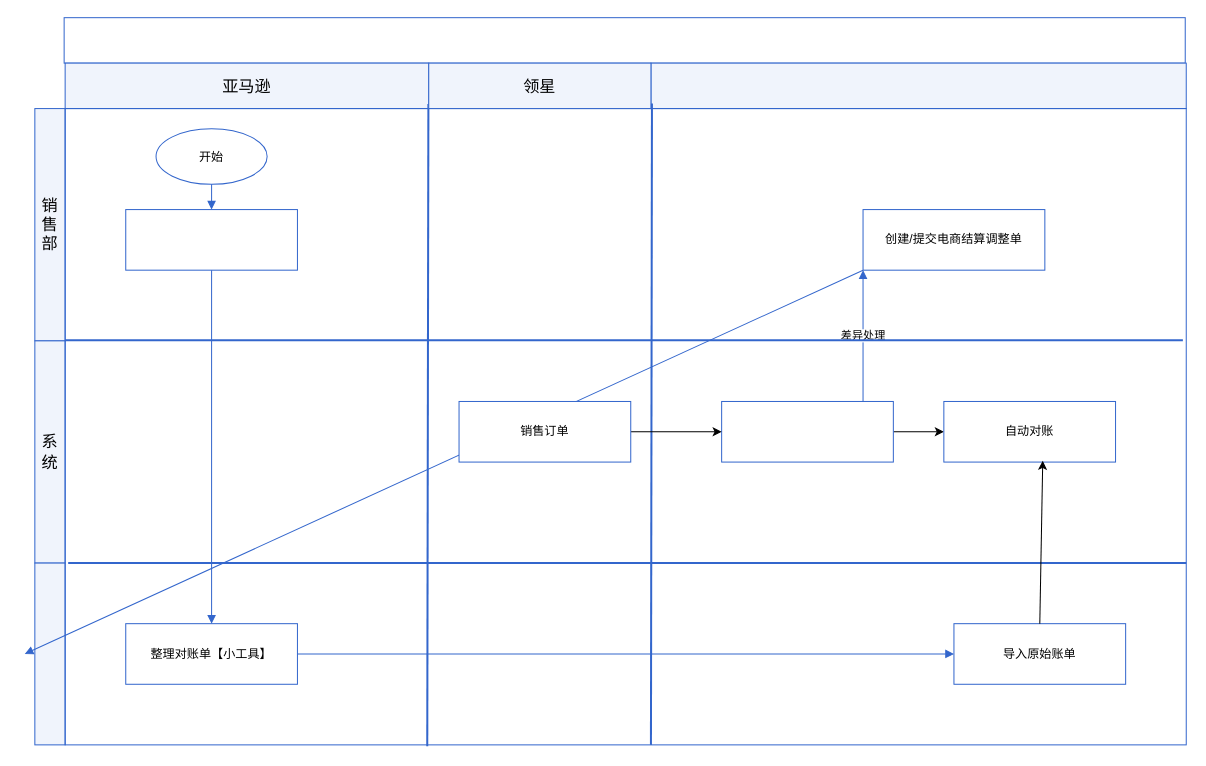
This 1206x766 diagram has some shape labels left out. The shapes that lost their labels are listed below. From the top down, each one's box as (x1, y1, x2, y2) in pixels, then its label:
(63, 17, 1185, 63): 跨境2C对账-店铺维度
(650, 62, 1186, 109): 中台
(125, 209, 297, 270): 导出对账单
(721, 400, 893, 462): 零售订单
(34, 562, 65, 745): 财务部
